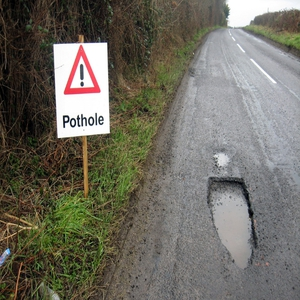pothole: (207, 174, 261, 275)
